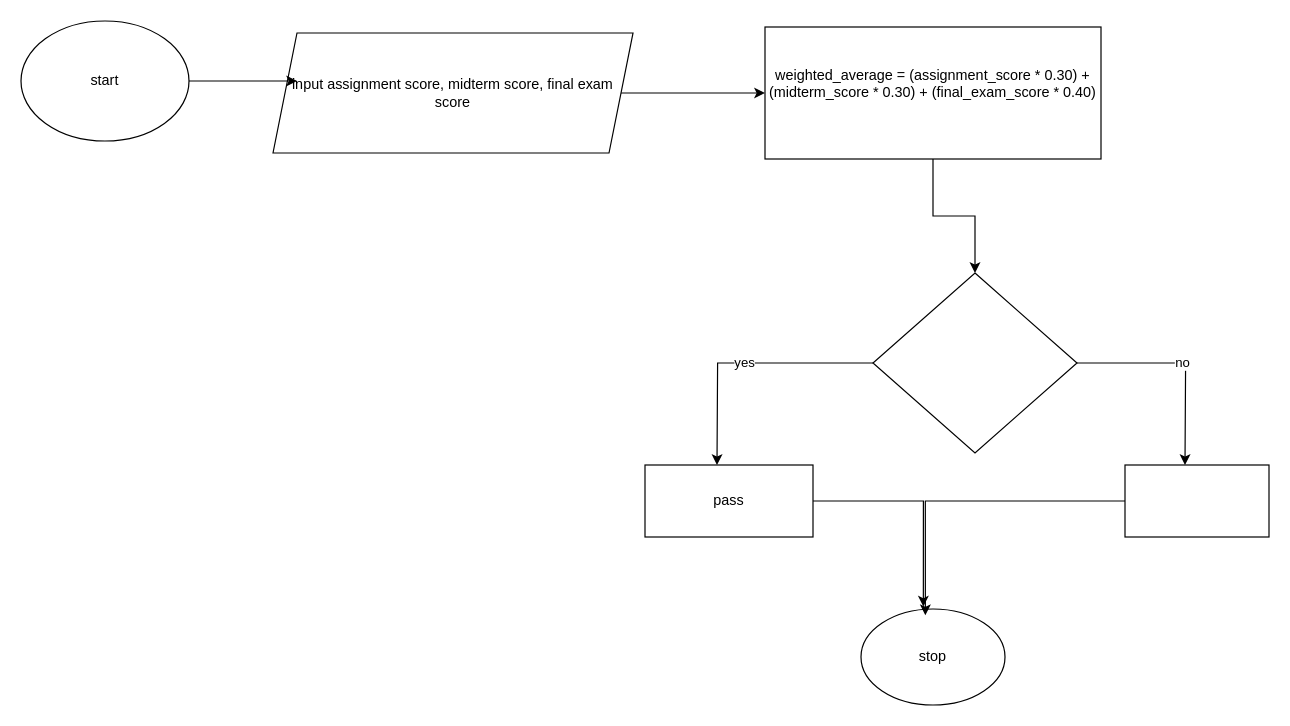
This 1290x726 diagram has some shape labels left out. The shapes that lost their labels are listed below. From the top down, each one's box as (x1, y1, x2, y2) in pixels, then its label:
(872, 272, 1077, 453): weighted average ≥ 60%
(1124, 464, 1269, 537): fail
